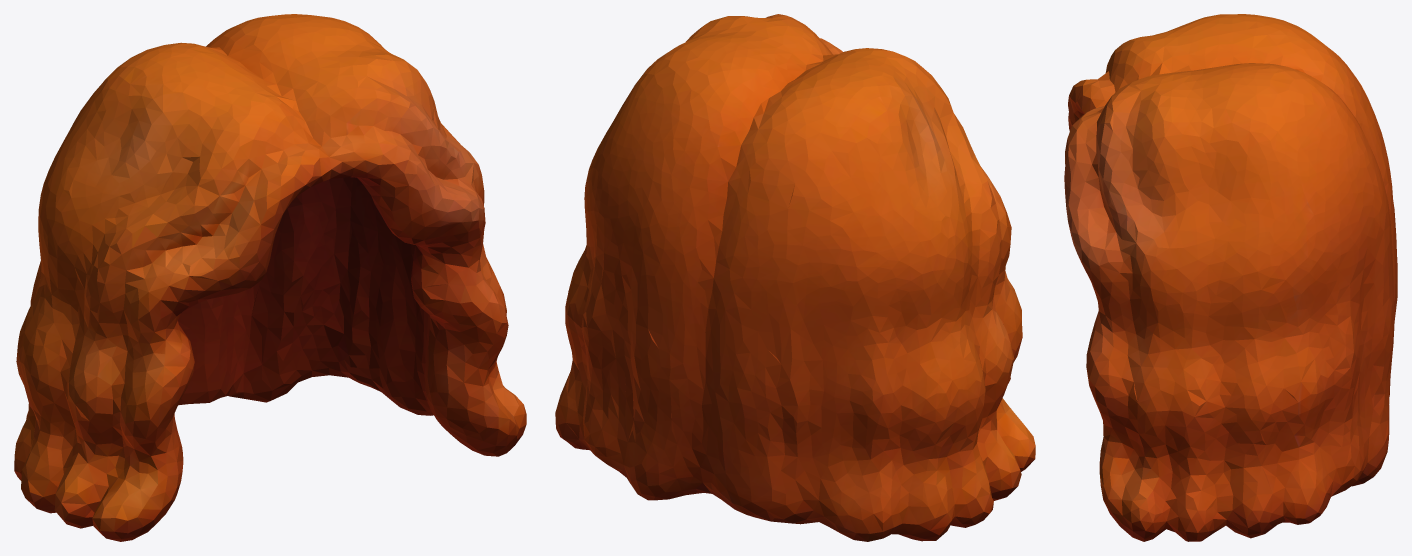
Rendered from hairstyle_059.glb.
The picture shows the model from 3 angles, left to right: view 1: azimuth 30°, elevation 25°; view 2: azimuth 150°, elevation 25°; view 3: azimuth 270°, elevation 25°; orthographic projection. The views are drawn at different scales.
Visible parts, largest first — view 1: geometry_0_059; view 2: geometry_0_059; view 3: geometry_0_059.
Boxes of the visible parts, box(x1,y1,x2,y2) form: geometry_0_059: box(14, 14, 526, 541); geometry_0_059: box(555, 14, 1035, 541); geometry_0_059: box(1064, 14, 1397, 541).
Size of the model in its own units: 1.65 by 1.52 by 1.14.
1 material, 1 textured.
